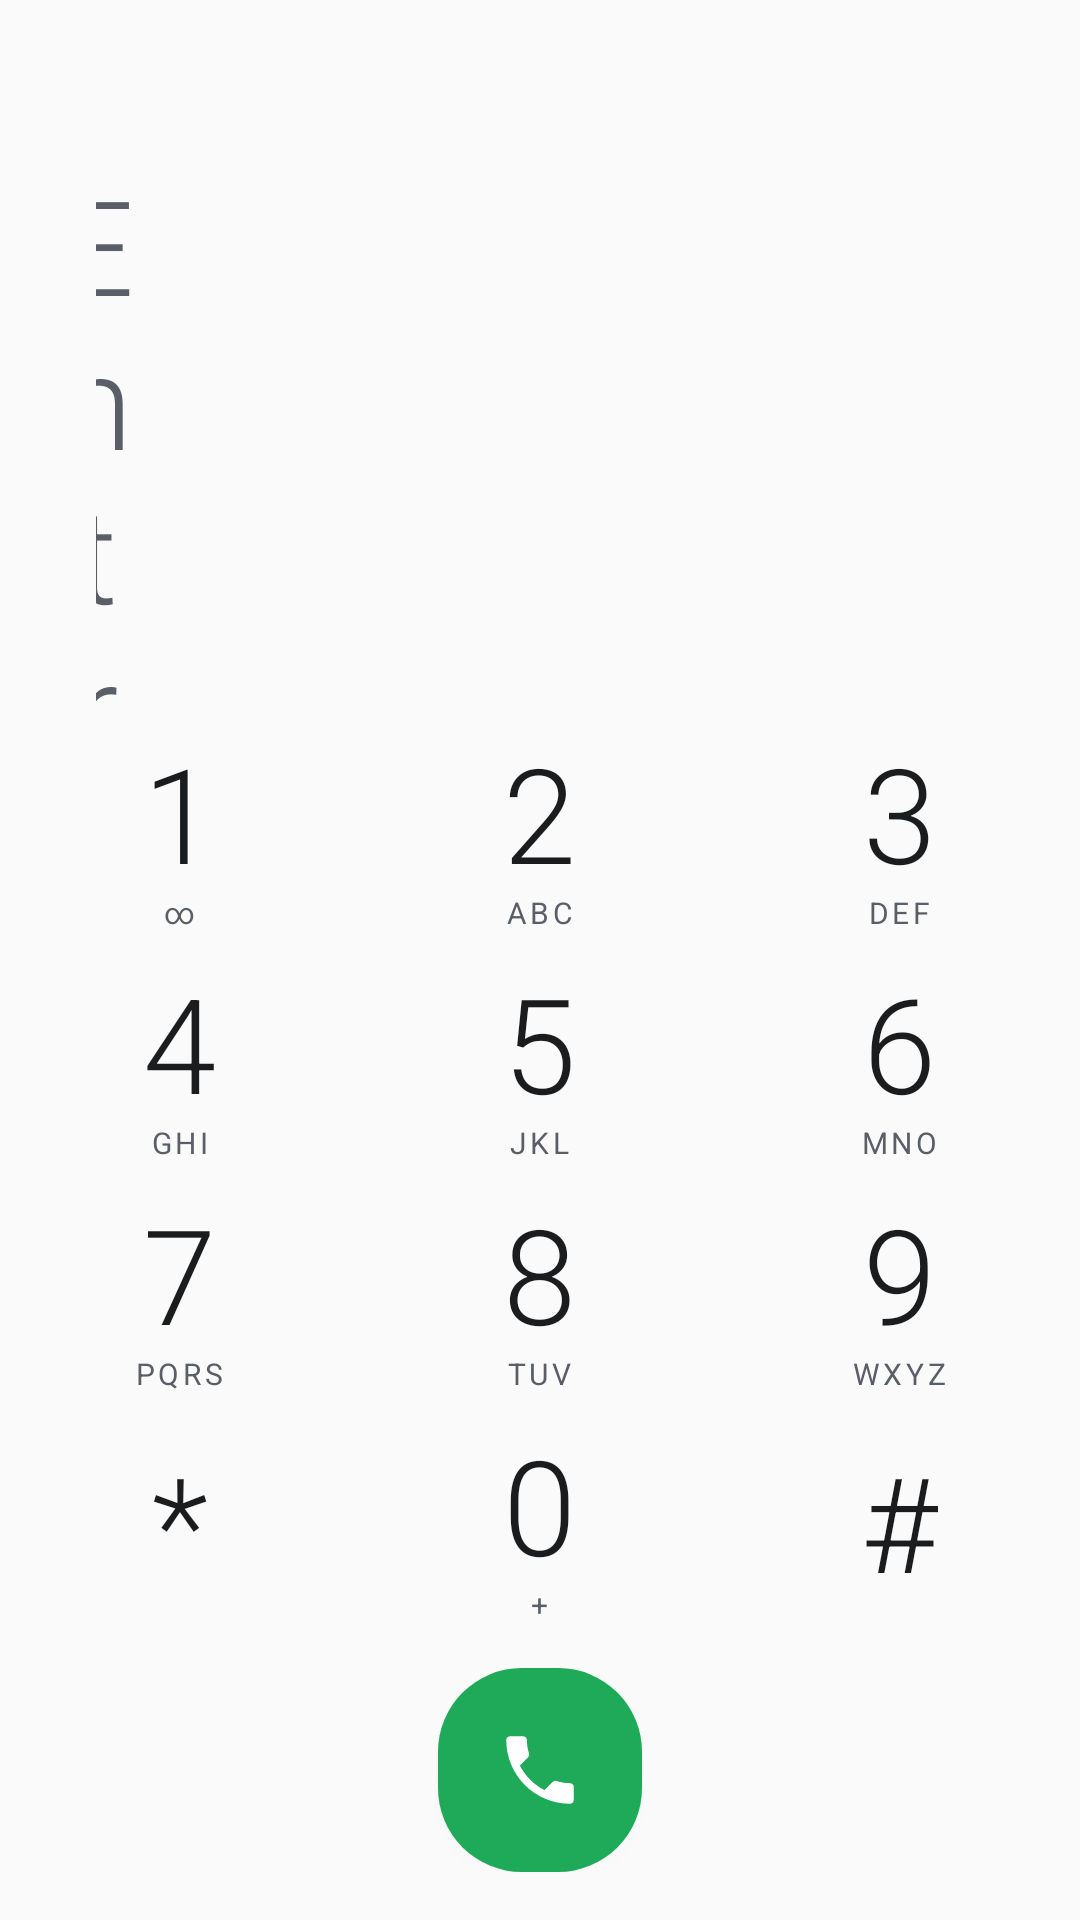

Locate icon controls on the screen. Image size 1080w x 1920h, boxes as (x1, y1, x2, y2).
Appeler: (438, 1668, 642, 1872)
